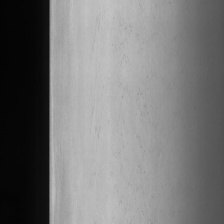silk_spot: (86, 17, 181, 211)
